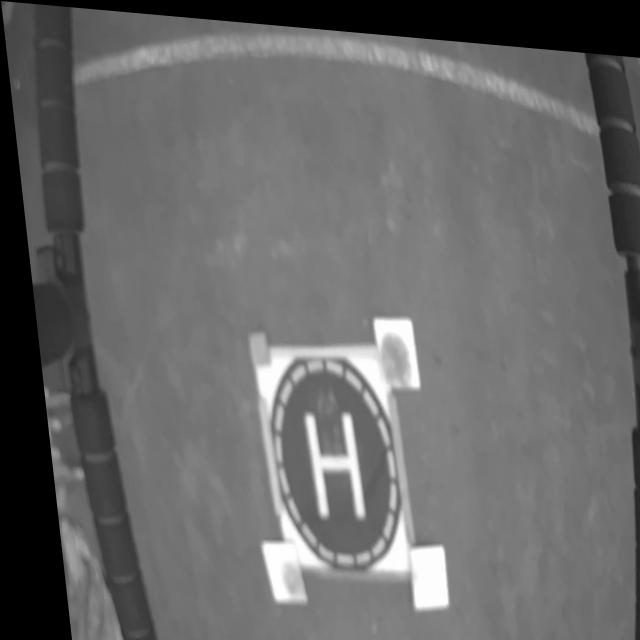Helipad: (292, 405, 354, 516)
